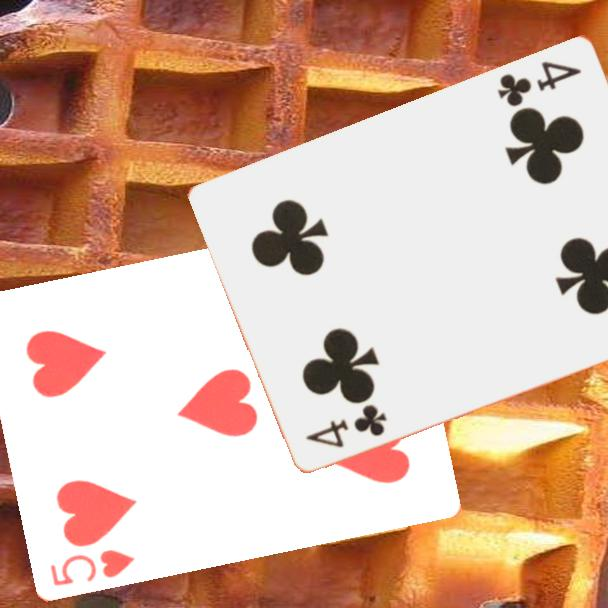c04: (493, 57, 585, 109), (302, 401, 390, 451)
h05: (47, 545, 138, 589)
